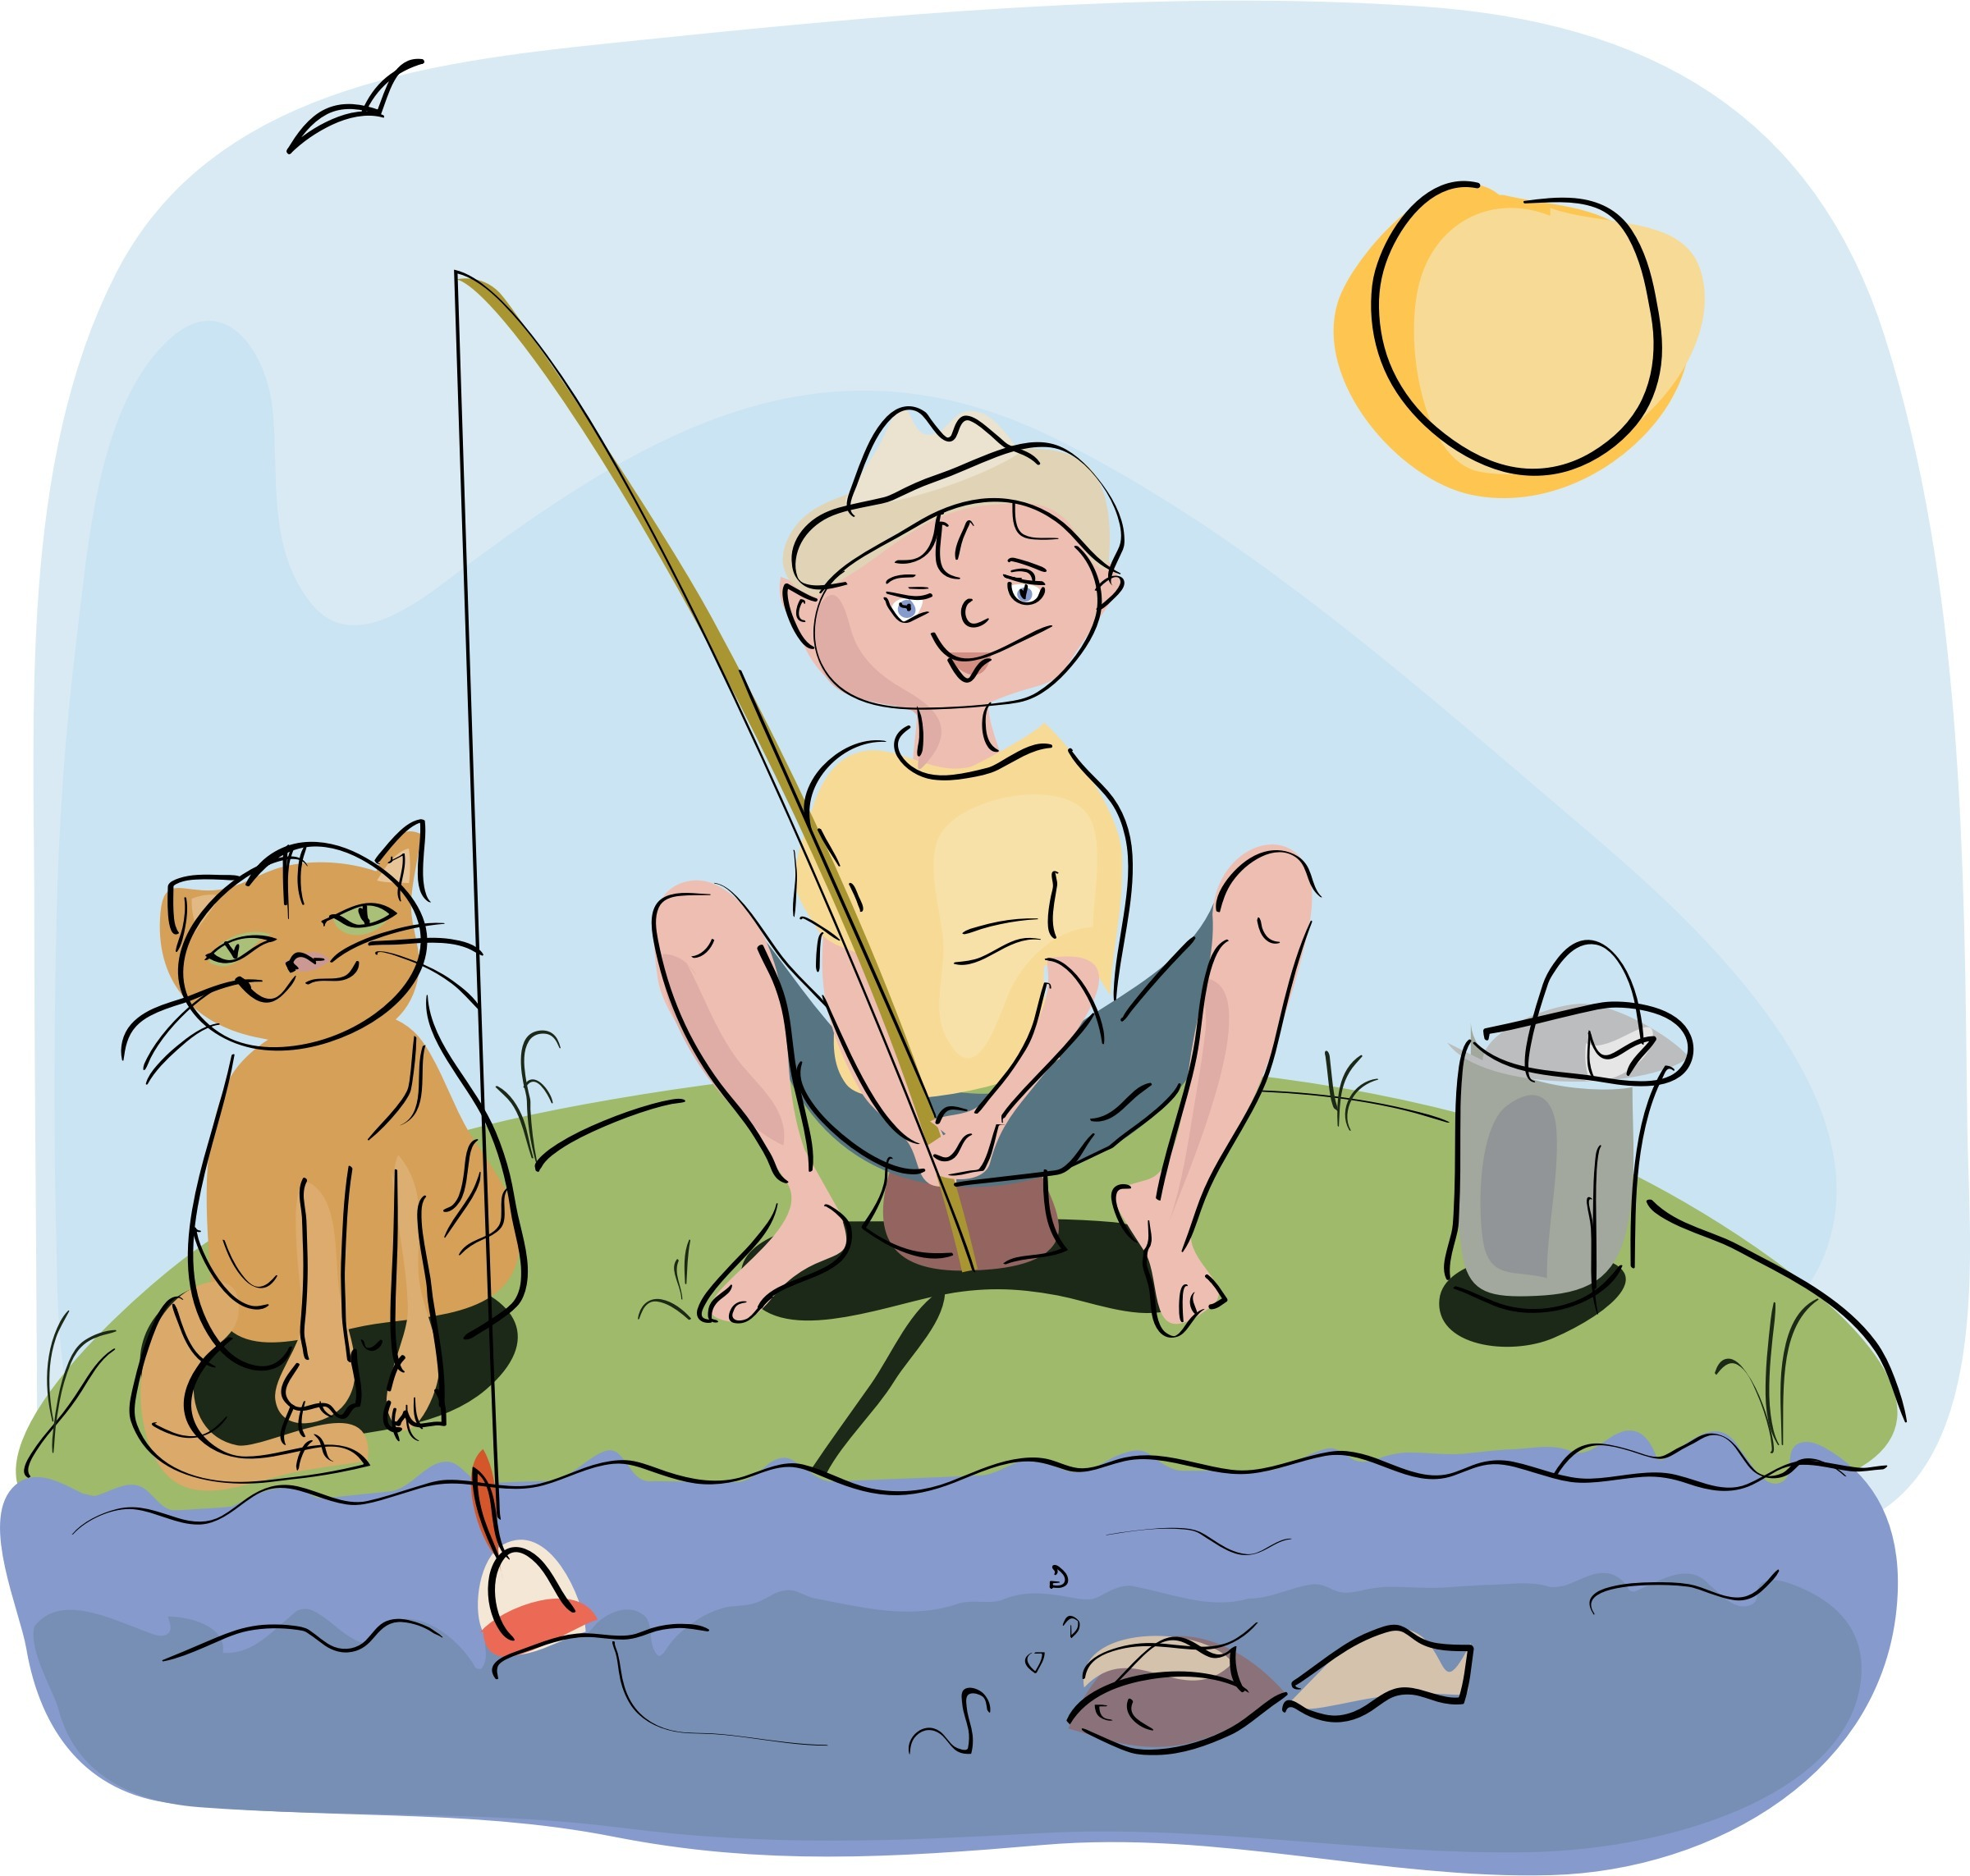cat: (116, 807, 518, 1499)
person: (614, 393, 1322, 1337)
